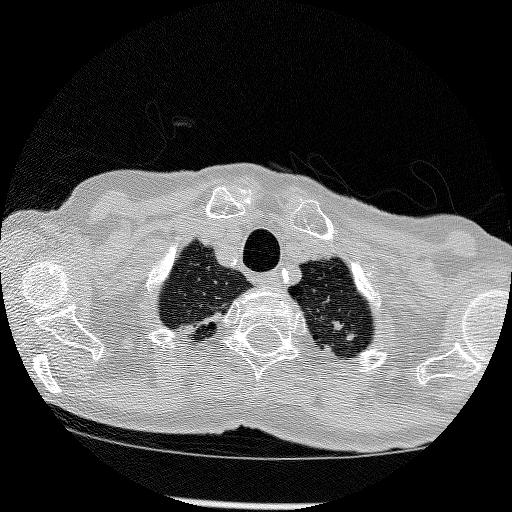nodule: (331, 320, 343, 332)
